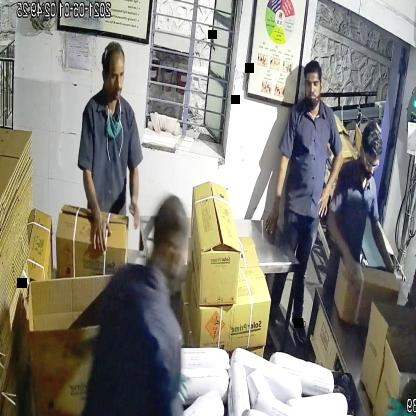goggles: (359, 151, 383, 175)
no_goggles: (298, 74, 327, 96), (98, 66, 128, 87)
